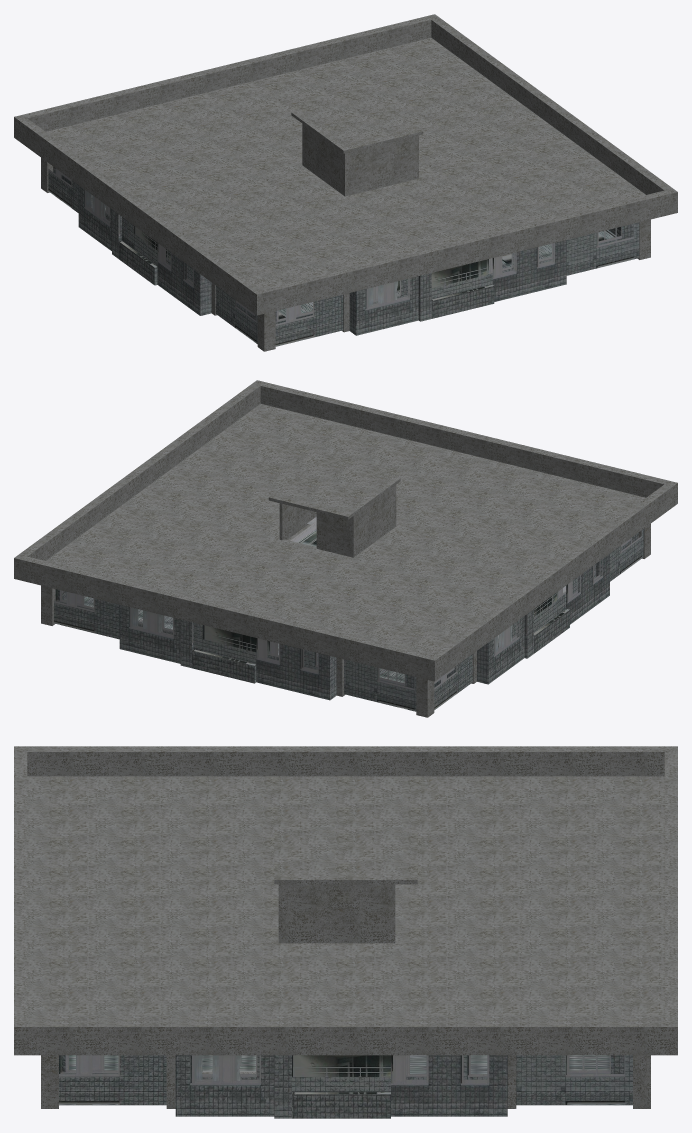
The model's file is BagSS07top_100.fbx.
3 views of the same model, one above another, from view 1: azimuth 30°, elevation 25°; view 2: azimuth 150°, elevation 25°; view 3: azimuth 270°, elevation 25° (orthographic). The views are drawn at different scales.
Parts seen in each view (by area): view 1: topRoof300, topMain300, Box03; view 2: topRoof300, topMain300, Box03; view 3: topRoof300, topMain300, Box03.
Boxes of the visible parts, x1,y1,x2,y2 form: topRoof300: [14, 14, 677, 351]; topMain300: [53, 167, 633, 335]; Box03: [48, 168, 639, 346]; topRoof300: [14, 380, 677, 717]; topMain300: [55, 533, 638, 711]; Box03: [54, 517, 643, 711]; topRoof300: [14, 746, 677, 1108]; topMain300: [59, 1055, 632, 1118]; Box03: [59, 1055, 632, 1104].
Size of the model in its own units: 35.52 by 7.92 by 35.52.
